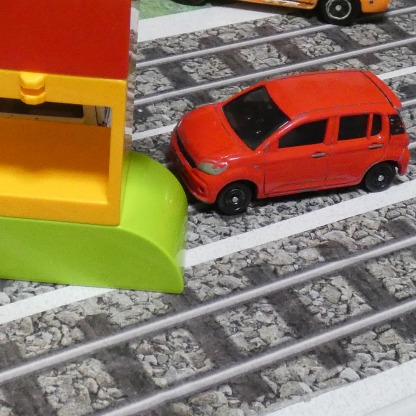car: (171, 69, 407, 206), (169, 0, 397, 24)
